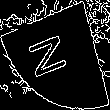N_E: (31, 28, 79, 82)
